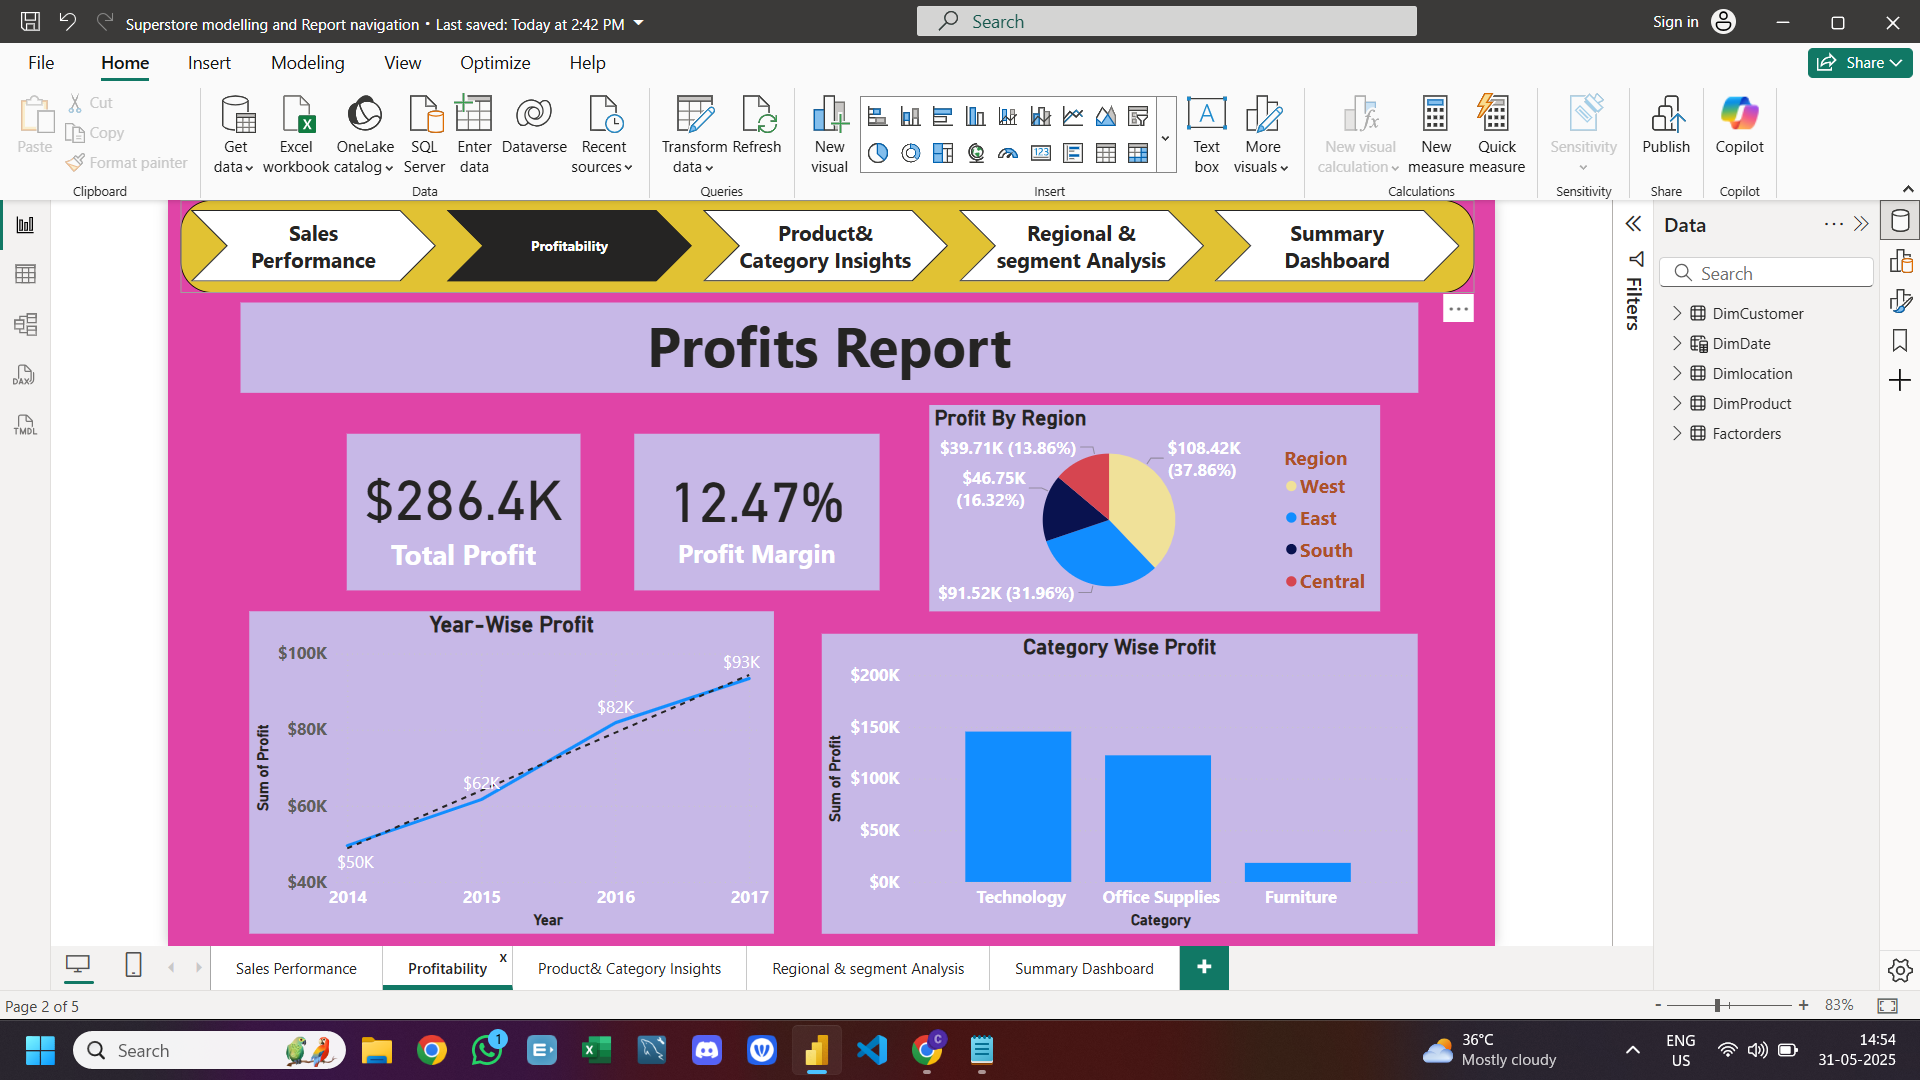

This screenshot's page, from the dashboard's own definition file:
{"tool":"powerbi","page":{"name":"Profitability","canvas":[1280,720],"ordinal":1},"visuals":[{"type":"textbox","box":[70,98.9,1136.5,86.9],"z":0},{"type":"card","fields":{"Values":["Sample - Superstore.Total Profit"]},"box":[172.5,225.6,225.6,150.8],"z":1000},{"type":"card","fields":{"Values":["Sample - Superstore.Profit Margin"]},"box":[450,225.6,236.5,150.8],"z":2000},{"type":"lineChart","title":"Year-Wise Profit","fields":{"Y":["Sum(Sample - Superstore.Profit)"],"Category":["DimDate.Year"]},"box":[78.4,396.9,506.7,311.3],"z":3000},{"type":"clusteredColumnChart","title":"Category Wise Profit","fields":{"Category":["Sample - Superstore.Category"],"Y":["Sum(Sample - Superstore.Profit)"]},"box":[631,418.6,575.5,289.5],"z":4000},{"type":"pieChart","title":"Profit By Region","fields":{"Y":["Sum(Sample - Superstore.Profit)"],"Category":["Sample - Superstore.Region"]},"box":[734.7,197.9,435.5,199.1],"z":5000},{"type":"pageNavigator","box":[12.1,0,1248.7,89.3],"z":6000}]}

Visuals, with their boxes on the page's 1280x720 design canvas (x1, y1, x2, y2). These are canvas units, not pixel positions in the 1920x1080 screenshot, which may show the page scaled, cropped or inside an application window:
textbox: crop(70, 99, 1206, 186)
card - Sample - Superstore.Total Profit: crop(172, 226, 398, 376)
card - Sample - Superstore.Profit Margin: crop(450, 226, 686, 376)
"Year-Wise Profit" lineChart: crop(78, 397, 585, 708)
"Category Wise Profit" clusteredColumnChart: crop(631, 419, 1206, 708)
"Profit By Region" pieChart: crop(735, 198, 1170, 397)
pageNavigator: crop(12, 0, 1261, 89)
